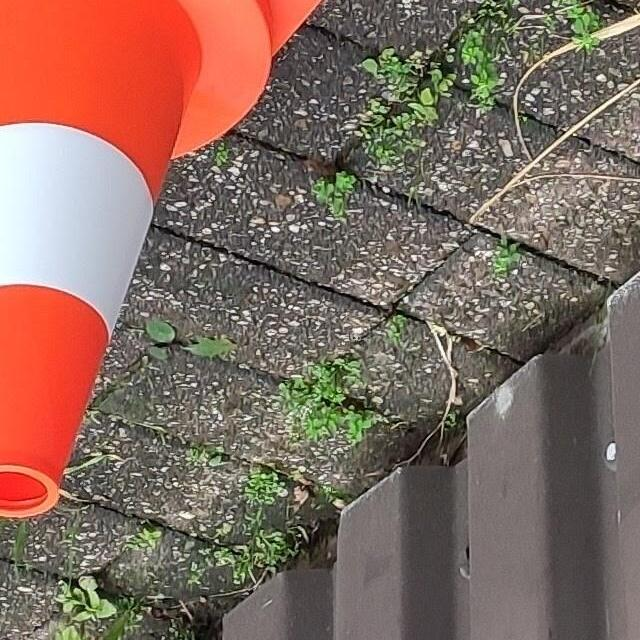Safety Cone: (0, 0, 348, 549)
